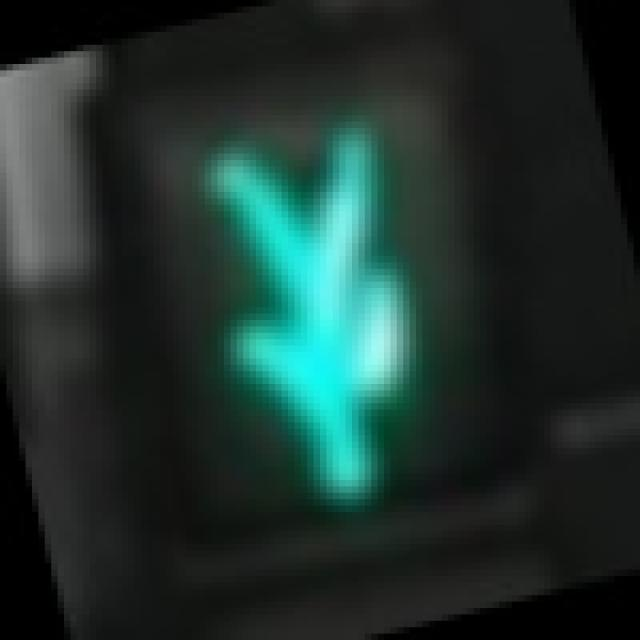green_light: (64, 58, 550, 570)
